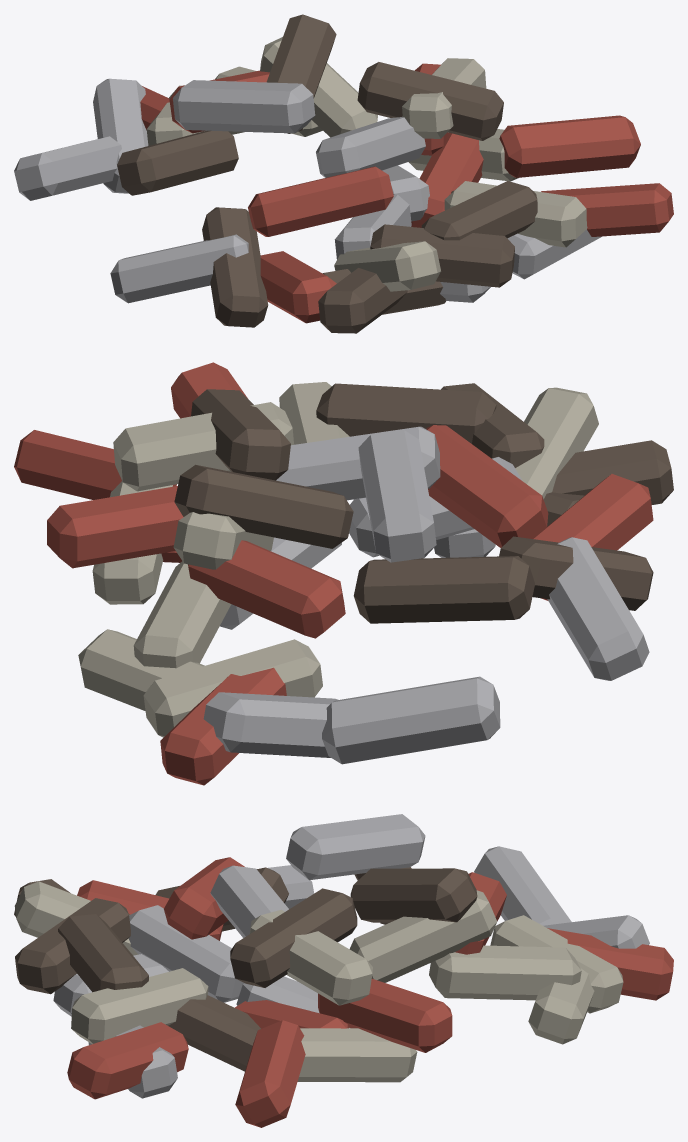
File: shoe_pile.glb
3 views of the same model, one above another, from view 1: azimuth 30°, elevation 25°; view 2: azimuth 150°, elevation 25°; view 3: azimuth 270°, elevation 25° (orthographic). The views are drawn at different scales.
Parts seen in each view (by area): view 1: shoe_pile; view 2: shoe_pile; view 3: shoe_pile.
Boxes of the visible parts, x1,y1,x2,y2 form: shoe_pile: (14,14,673,333); shoe_pile: (14,362,673,785); shoe_pile: (14,814,673,1127).
Bounding box in the file's own units: 1.07 × 0.3467 × 1.16.
